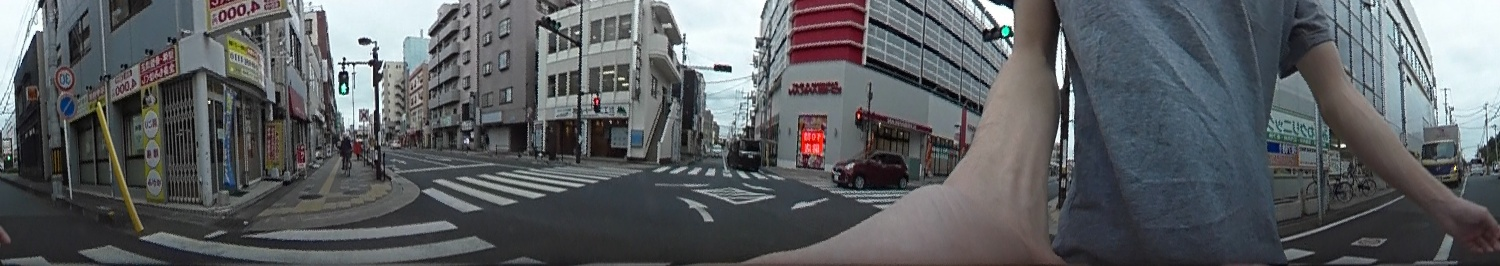difficult_person: (337, 128, 352, 169)
